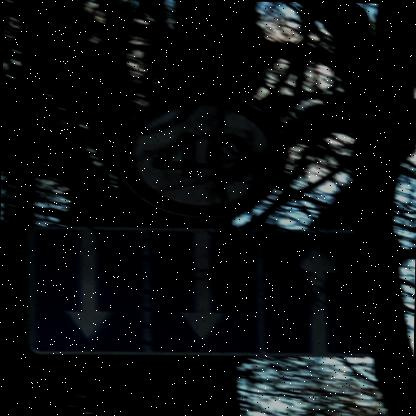speedlimit: (110, 90, 283, 219)
